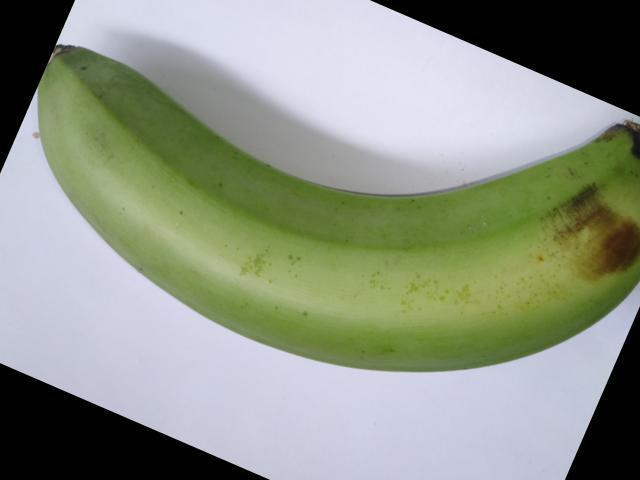freshunripe: (24, 33, 639, 393)
